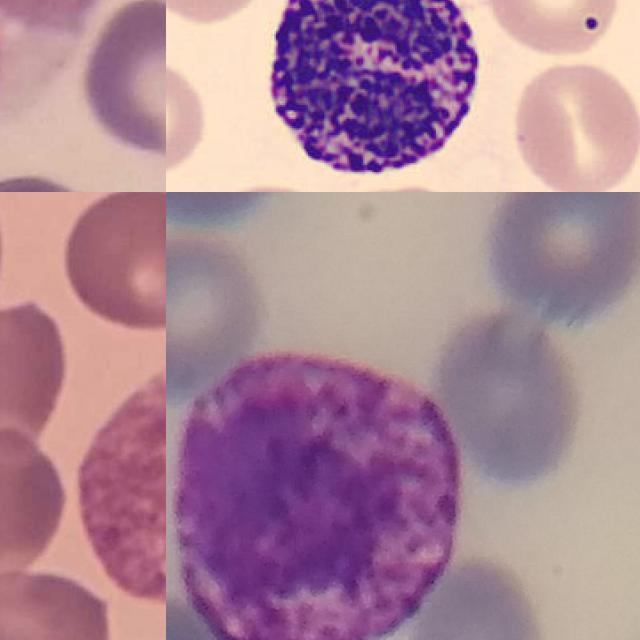Basophil: (175, 354, 463, 640), (244, 0, 493, 192)
Eosinophil: (0, 0, 113, 143)
Neutrophil: (76, 354, 166, 611)
RBC: (508, 57, 640, 192), (478, 0, 624, 59), (166, 50, 212, 180)
